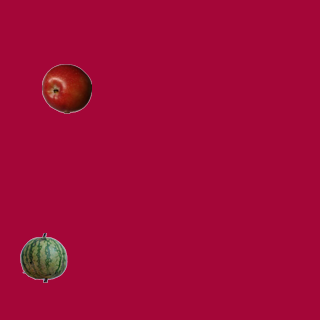Apple Braeburn: (41, 63, 91, 113)
Watermelon: (18, 232, 68, 282)
